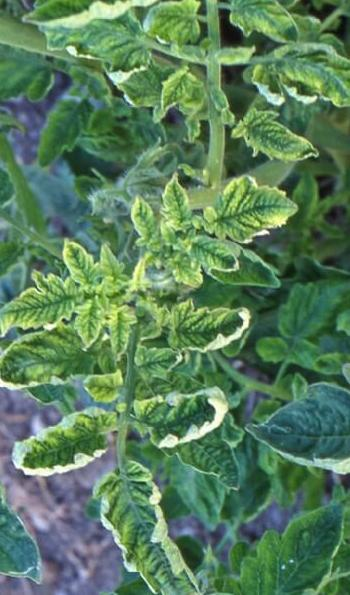Tomato leaf yellow virus: (96, 460, 215, 595), (9, 398, 117, 479), (199, 174, 302, 248), (137, 391, 232, 450), (0, 275, 85, 340), (236, 105, 325, 163), (167, 300, 253, 352), (141, 0, 208, 50), (68, 297, 108, 351)
